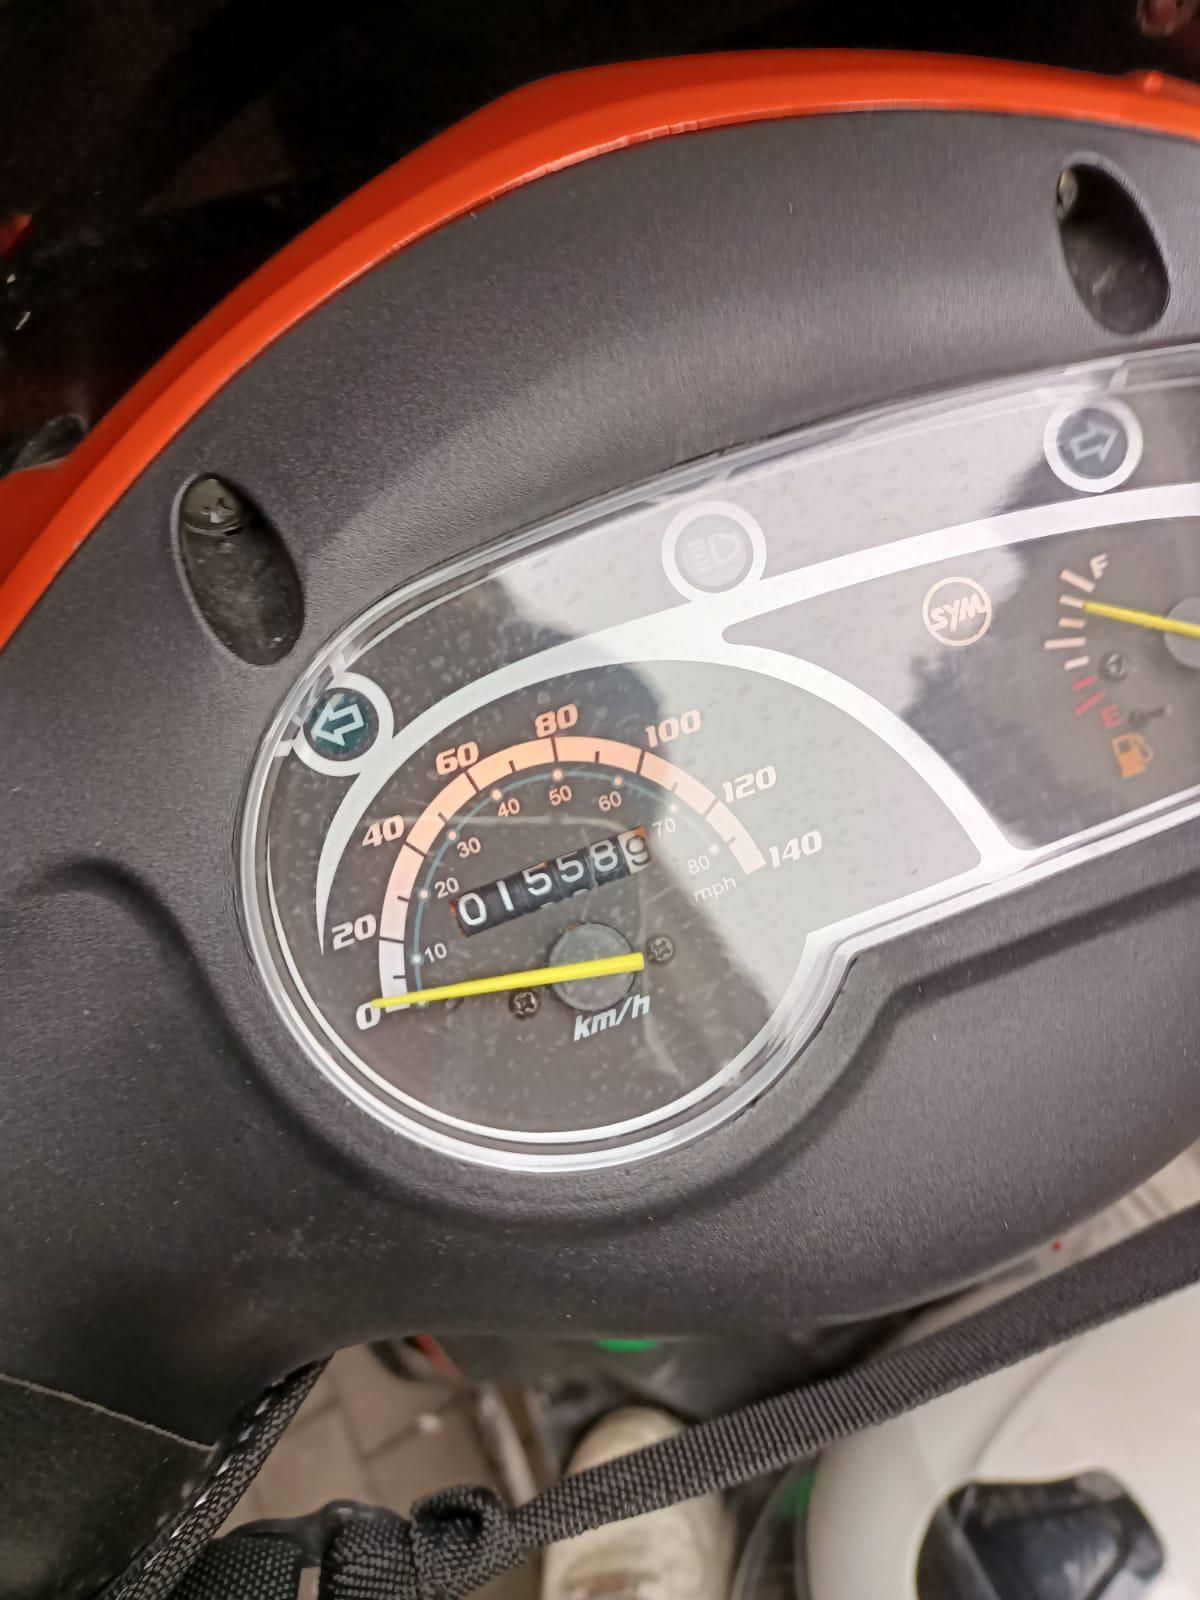0: (456, 892, 487, 929), (445, 876, 460, 894), (466, 837, 482, 854)
1: (493, 876, 517, 915)
3: (453, 839, 466, 862)
5: (518, 860, 553, 897), (555, 850, 586, 883)
8: (589, 840, 621, 872)
9: (625, 837, 653, 866)
odometer: (444, 824, 655, 947)
